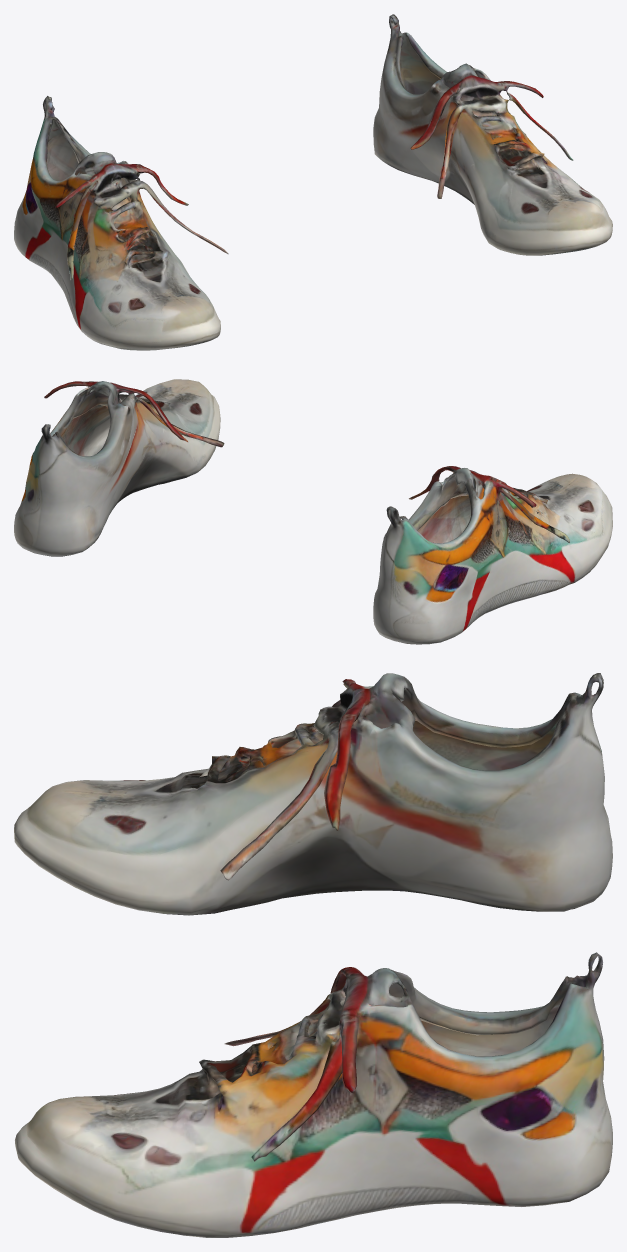
The model's file is Colorful_Sneakers_Dis_0203105804_texture.glb.
3 renders of one model, top to bottom at view 1: azimuth 30°, elevation 25°; view 2: azimuth 150°, elevation 25°; view 3: azimuth 270°, elevation 25°, orthographic. The views are drawn at different scales.
Size of the model in its own units: 2 by 0.5397 by 1.25.
Materials: 1 (1 with a texture image).
